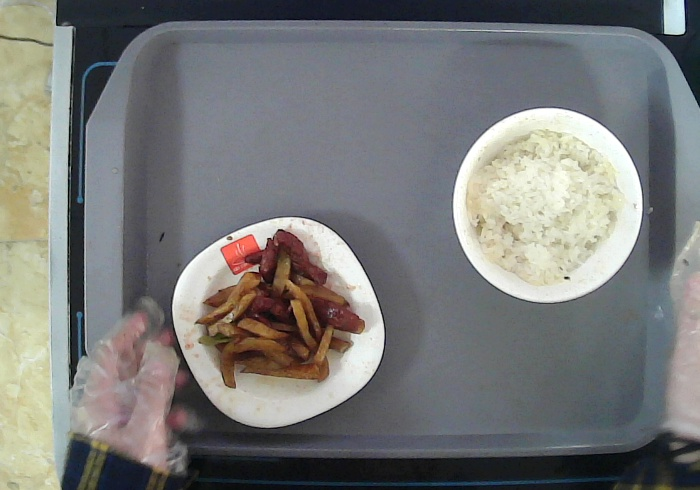SHKJ-Bai_Se_Si_Fang_Cai_Die: (170, 214, 388, 430)
SHKJ-Fan_Wan: (450, 105, 646, 304)
